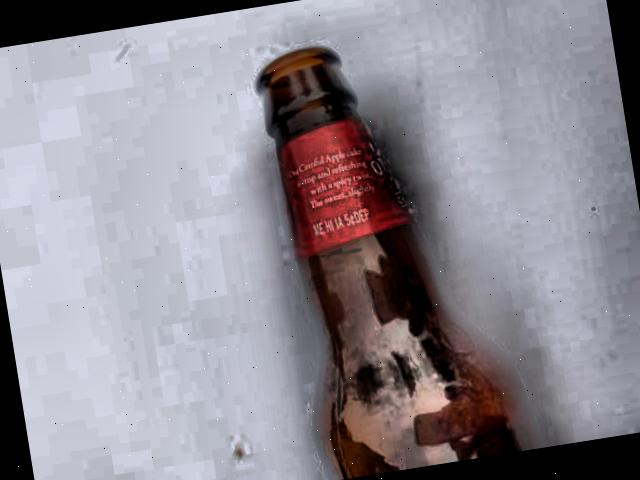Bottles: (210, 0, 563, 480)
